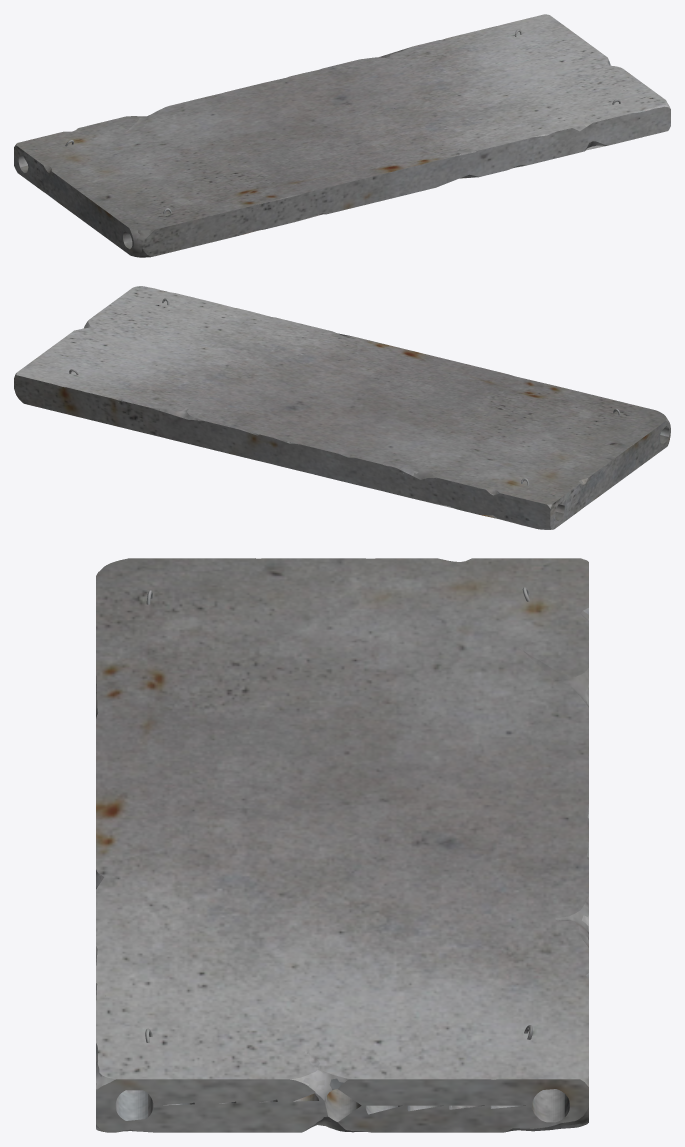
File: plita_bet3_001.fbx
3 renders of one model, top to bottom at view 1: azimuth 30°, elevation 25°; view 2: azimuth 150°, elevation 25°; view 3: azimuth 270°, elevation 25°, orthographic. The views are drawn at different scales.
Parts seen in each view (by area): view 1: plita_bet_002_5; view 2: plita_bet_002_5; view 3: plita_bet_002_5.
Part boxes in pixels (x1,y1,x2,y2): plita_bet_002_5: [14, 14, 670, 257]; plita_bet_002_5: [14, 286, 670, 529]; plita_bet_002_5: [96, 558, 588, 1132].
Bounding box in the file's own units: 600 × 34.39 × 240.
1 material, 1 textured.
